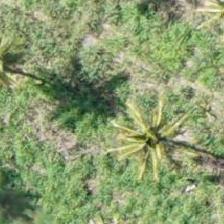coconut_tree: (112, 99, 202, 189), (0, 14, 47, 104)
